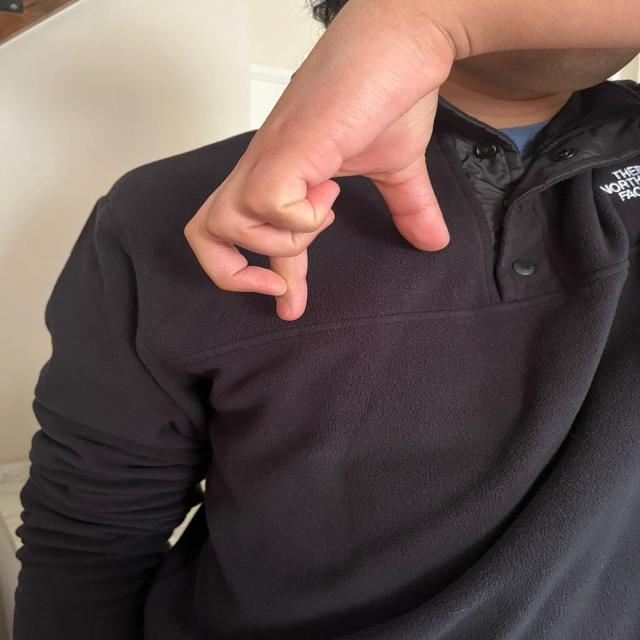P: (176, 15, 464, 327)
